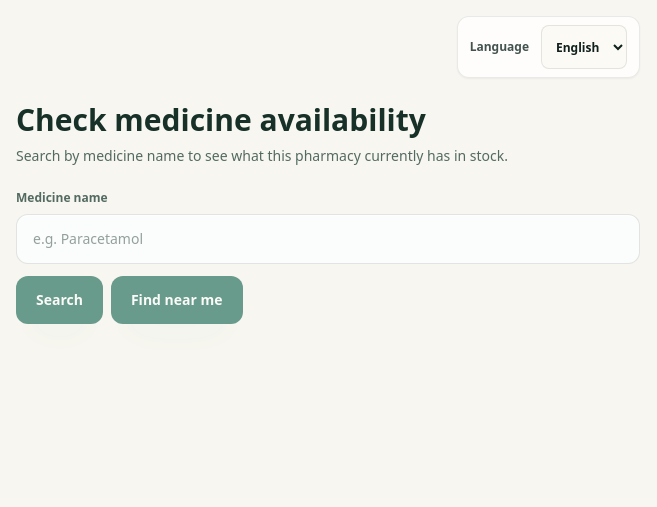
Scenario: PublicMedicineSearch › renders real search results without prior data
The image size is (657, 507).
Type "paracetamol" into the field labelled "Medicine name".
click(328, 239); type("paracetamol")  # box [16,214,640,264]
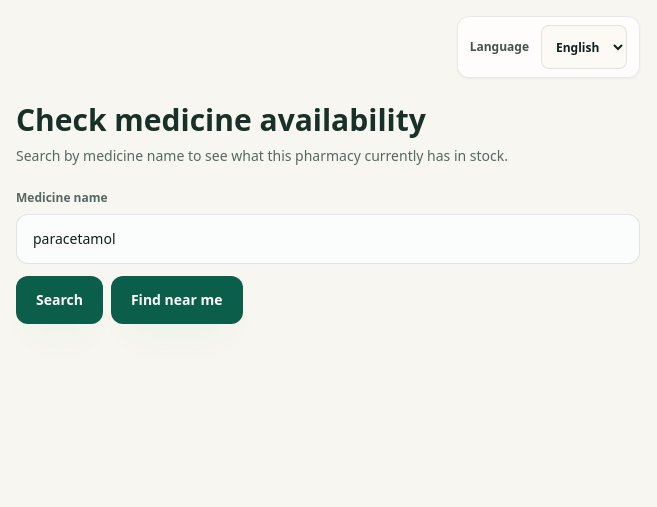
Click the button "Search".
click(59, 300)  # box [16,276,103,324]
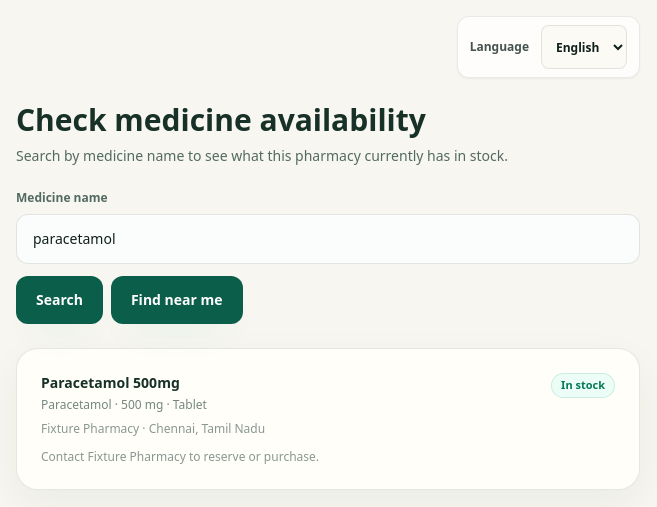
Check: the text "Paracetamol 500mg" is shown, box [41,373,180,392]
Check: the text "In stock" is shown, box [551,373,615,398]
Check: the text "Fixture Pharmacy · Chennai, Tamil Nadu" is shown, box [41,421,265,437]
